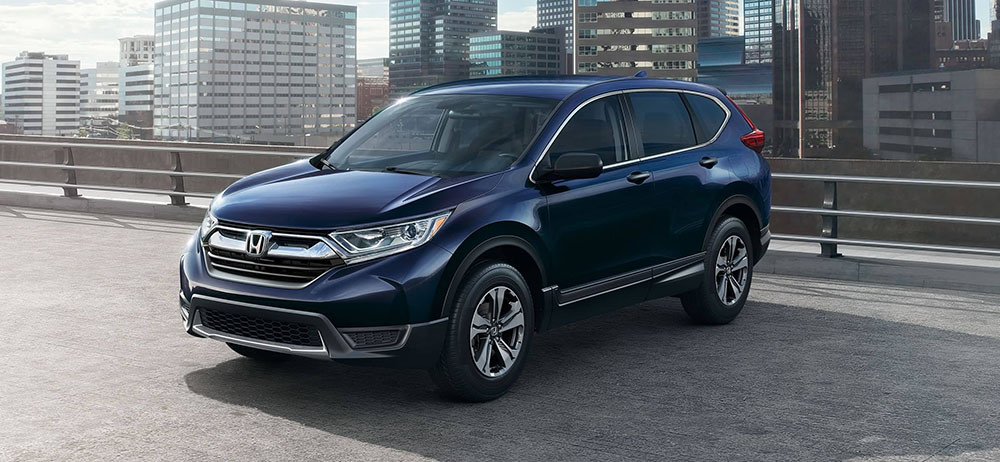crv: (164, 61, 798, 414)
